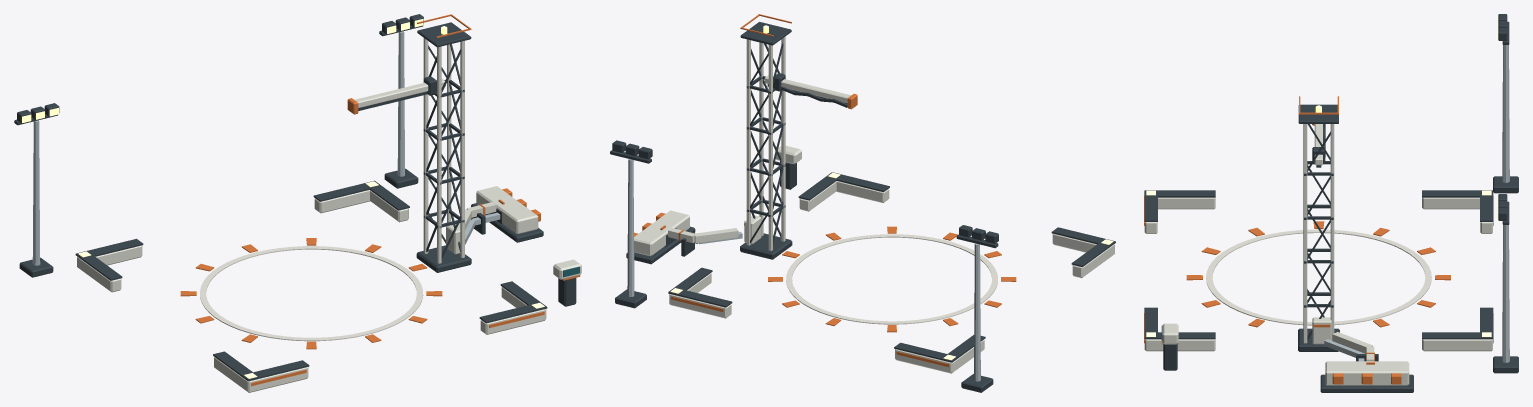
Rendered from launchpad-v2c.glb.
3 views of the same model, side by side, from view 1: azimuth 30°, elevation 25°; view 2: azimuth 150°, elevation 25°; view 3: azimuth 270°, elevation 25° (orthographic). The views are drawn at different scales.
Visible parts, largest first — view 1: launchpad-v2c_dark, launchpad-v2c_ivory, launchpad-v2c_paint, launchpad-v2c_metal, launchpad-v2c_orange, Umbilical, launchpad-v2c_light; view 2: launchpad-v2c_dark, launchpad-v2c_ivory, launchpad-v2c_paint, launchpad-v2c_metal, launchpad-v2c_orange, Umbilical; view 3: launchpad-v2c_dark, launchpad-v2c_ivory, launchpad-v2c_paint, launchpad-v2c_metal, launchpad-v2c_orange, Umbilical, launchpad-v2c_light.
Part boxes in pixels (bbox=[...]): launchpad-v2c_dark: bbox=[14, 14, 576, 381]; launchpad-v2c_ivory: bbox=[77, 38, 581, 392]; launchpad-v2c_paint: bbox=[200, 246, 423, 341]; launchpad-v2c_metal: bbox=[32, 31, 500, 265]; launchpad-v2c_orange: bbox=[180, 14, 580, 386]; Umbilical: bbox=[347, 76, 445, 114]; launchpad-v2c_light: bbox=[22, 18, 544, 378]; launchpad-v2c_dark: bbox=[610, 22, 1115, 392]; launchpad-v2c_ivory: bbox=[634, 36, 1114, 373]; launchpad-v2c_paint: bbox=[786, 234, 997, 324]; launchpad-v2c_metal: bbox=[627, 159, 980, 381]; launchpad-v2c_orange: bbox=[634, 14, 1016, 366]; Umbilical: bbox=[764, 73, 857, 109]; launchpad-v2c_dark: bbox=[1144, 14, 1518, 392]; launchpad-v2c_ivory: bbox=[1144, 124, 1492, 385]; launchpad-v2c_paint: bbox=[1206, 229, 1431, 325]; launchpad-v2c_metal: bbox=[1324, 45, 1509, 362]; launchpad-v2c_orange: bbox=[1144, 96, 1493, 384]; Umbilical: bbox=[1312, 124, 1325, 167]; launchpad-v2c_light: bbox=[1146, 16, 1498, 336].
Size of the model in its own units: 15.91 by 8.17 by 11.62.
